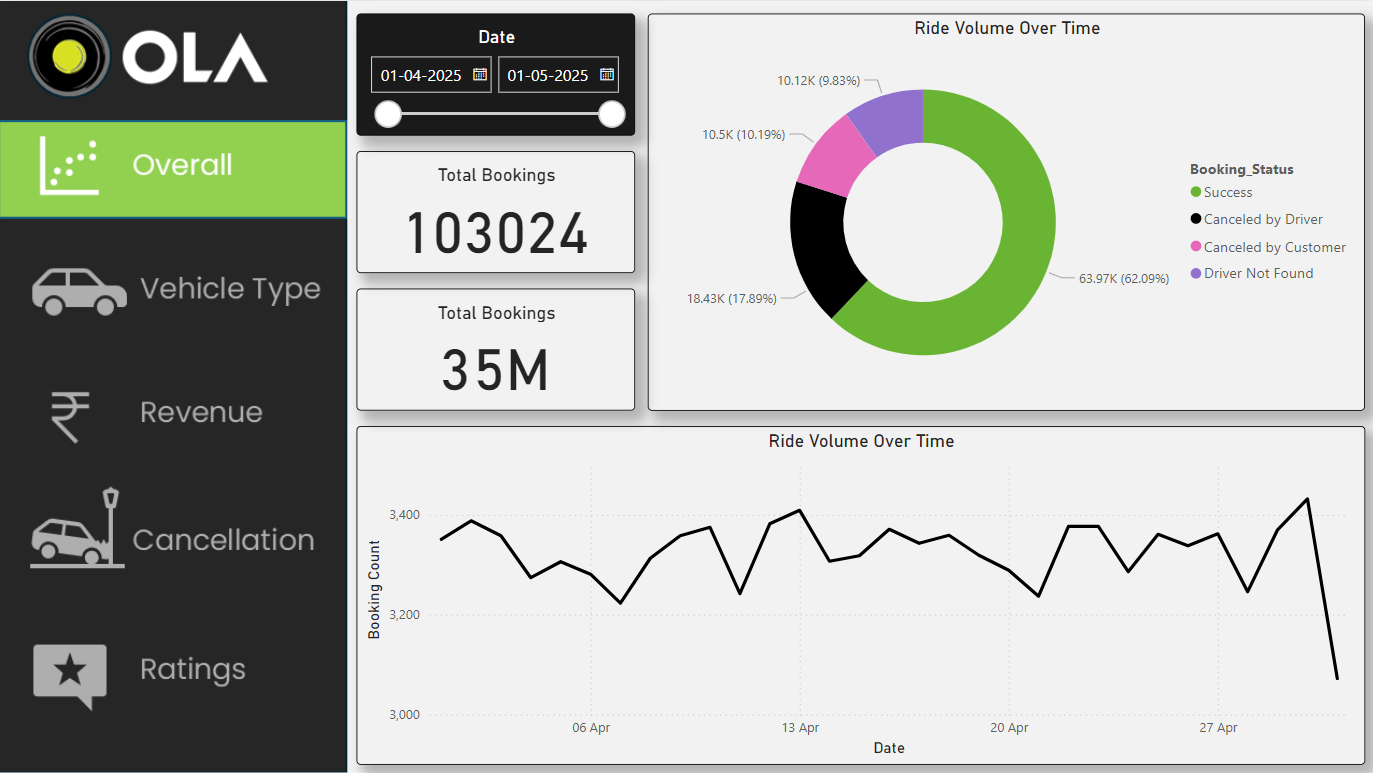

Layout of this report page (visuals, bound fields, positions):
{"tool":"powerbi","page":{"name":"Overall","canvas":[1280,720],"ordinal":0},"visuals":[{"type":"actionButton","box":[0,225.6,324.4,88.4],"z":0},{"type":"actionButton","box":[0,337.2,324.4,88.4],"z":1000},{"type":"actionButton","box":[0,452.3,324.4,88.4],"z":2000},{"type":"actionButton","box":[0,576.7,324.4,88.4],"z":3000},{"type":"lineChart","title":"Ride Volume Over Time","fields":{"Category":["Bookings.Date"],"Y":["CountNonNull(Bookings.Booking_ID)"]},"box":[332.6,395.3,938.4,315.1],"z":4000},{"type":"donutChart","title":"Ride Volume Over Time","fields":{"Category":["Bookings.Booking_Status"],"Y":["CountNonNull(Bookings.Booking_Status)"]},"box":[603.5,11.6,667.4,369.8],"z":5000},{"type":"slicer","title":"Date","fields":{"Values":["Bookings.Date"]},"box":[332.6,11.6,259.3,114],"z":6000},{"type":"card","title":"Total Bookings","fields":{"Values":["Count(Bookings.Booking_ID)"]},"box":[332.6,139.5,259.3,114],"z":7000},{"type":"card","title":"Total Bookings","fields":{"Values":["Sum(Bookings.Booking_Value)"]},"box":[332.6,267.4,259.3,114],"z":8000}]}

Visuals, with their boxes in screenshot pixels (x1, y1, x2, y2), scaled from the page's 1280x720 canvas onto the 1373x773 screenshot:
actionButton: (0, 242, 348, 337)
actionButton: (0, 362, 348, 457)
actionButton: (0, 486, 348, 581)
actionButton: (0, 619, 348, 714)
"Ride Volume Over Time" lineChart: (357, 424, 1363, 763)
"Ride Volume Over Time" donutChart: (647, 12, 1363, 409)
"Date" slicer: (357, 12, 635, 135)
"Total Bookings" card: (357, 150, 635, 272)
"Total Bookings" card: (357, 287, 635, 409)
